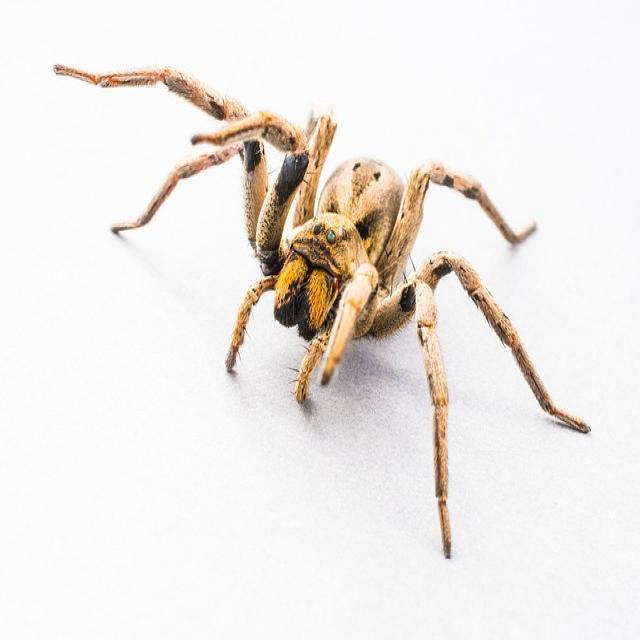spyder: (55, 65, 589, 556)
